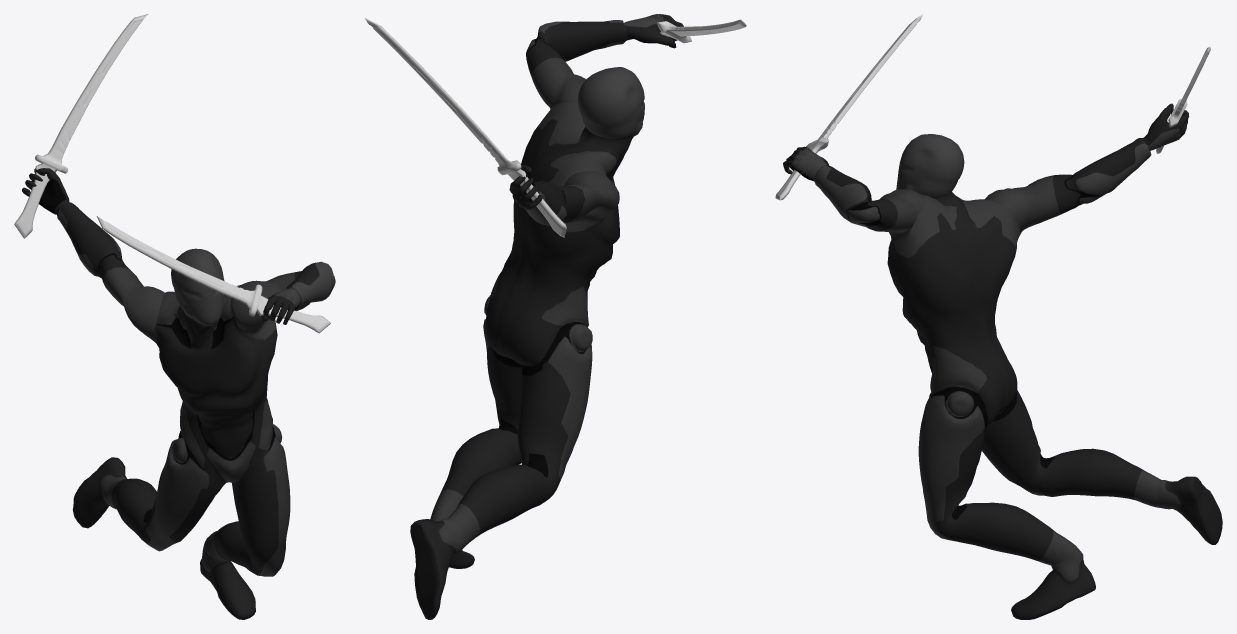
3 renders of one model, left to right at view 1: azimuth 30°, elevation 25°; view 2: azimuth 150°, elevation 25°; view 3: azimuth 270°, elevation 25°, orthographic. The views are drawn at different scales.
Visible parts, largest first — view 1: Cyborg_Ninja_Killer, Sword_l001, Sword_l; view 2: Cyborg_Ninja_Killer, Sword_l001, Sword_l; view 3: Cyborg_Ninja_Killer, Sword_l, Sword_l001.
Part boxes in pixels (x1,y1,x2,y2): Cyborg_Ninja_Killer: (22,168,335,619); Sword_l001: (14,14,147,238); Sword_l: (96,216,330,333); Cyborg_Ninja_Killer: (410,14,683,619); Sword_l001: (364,18,566,237); Sword_l: (657,19,746,43); Cyborg_Ninja_Killer: (783,103,1222,619); Sword_l: (775,14,922,200); Sword_l001: (1156,47,1210,153).
Bounding box in the file's own units: 84.59 × 204 × 148.
